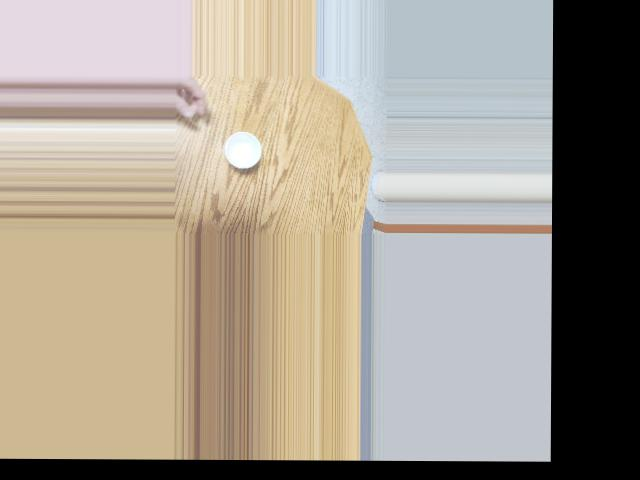cotage: (217, 127, 265, 168)
